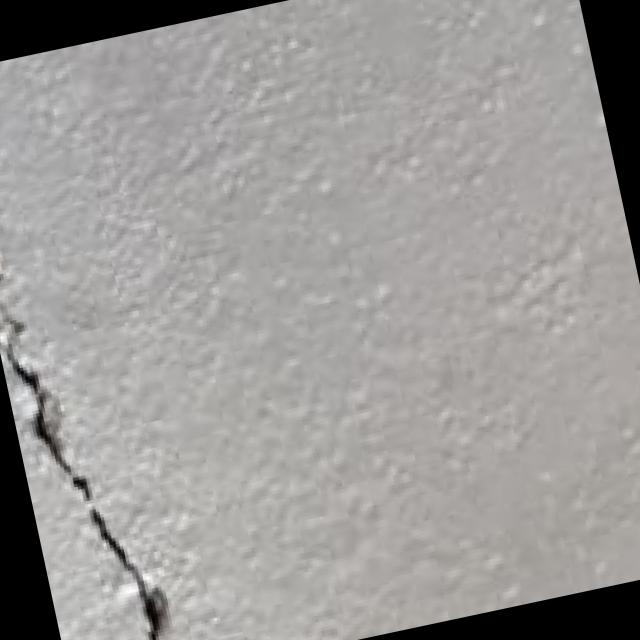crack: (0, 223, 220, 640)
